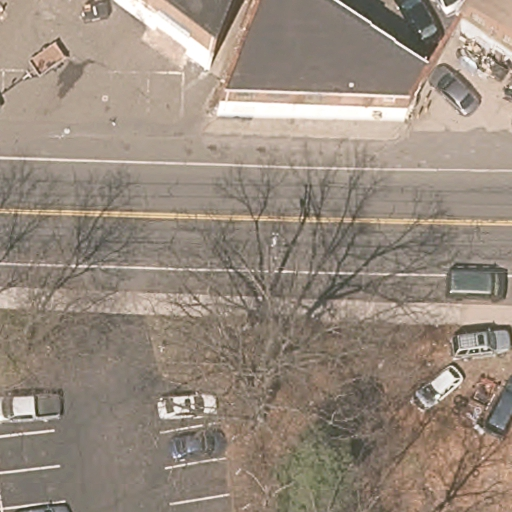DT: (259, 231, 284, 299)
